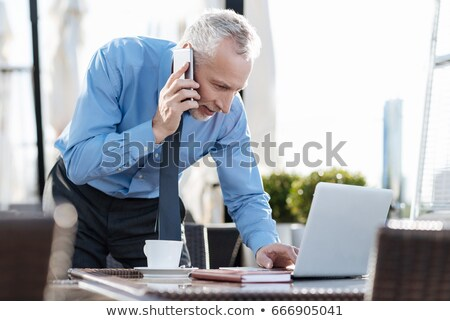phone: (166, 42, 194, 119)
talk: (151, 43, 245, 131)
